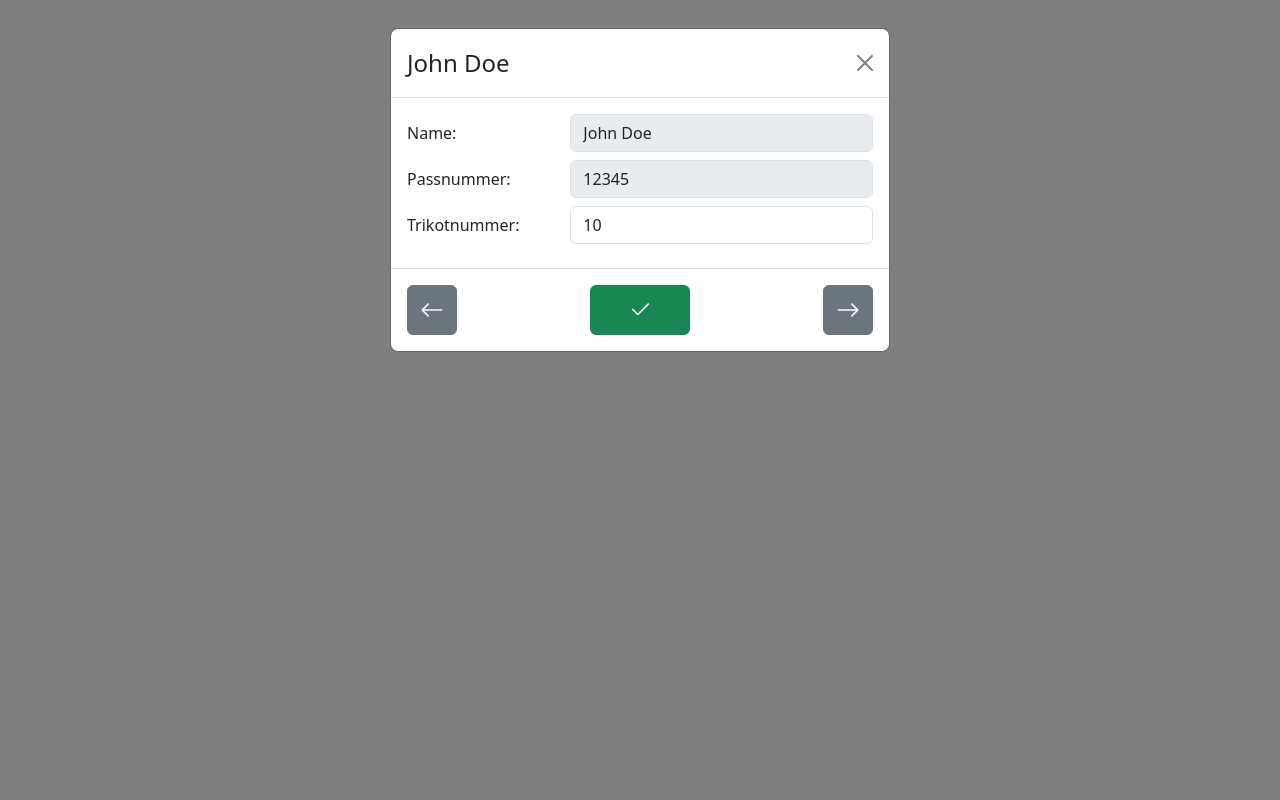
Scenario: PlayerModal › shows error message for invalid jersey number (non-numeric)
Step 1. Replace the text in the field with placeholder "Trikotnummer" next to "Trikotnummer:" with "abc" → (722, 225), box [570, 206, 873, 244]
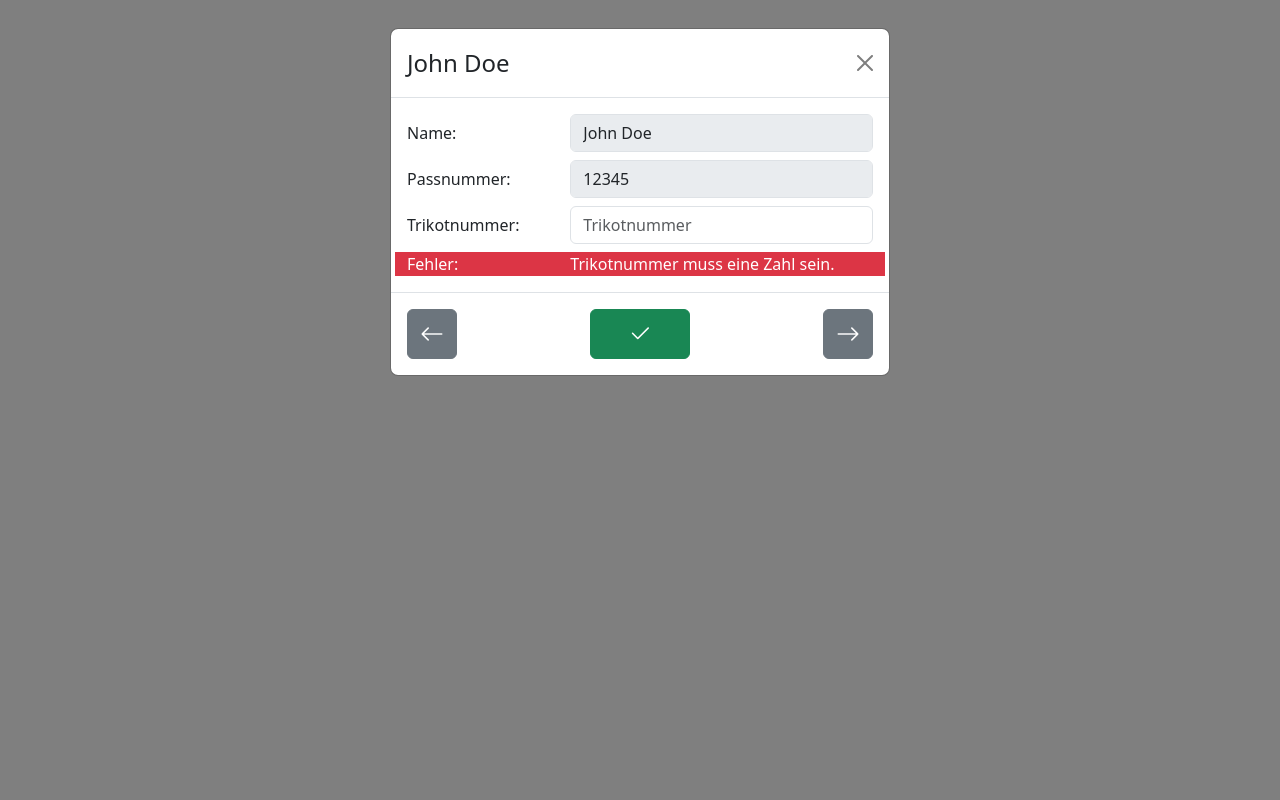
expect the text "Trikotnummer muss eine Zahl sein." is shown: met, box [570, 252, 873, 276]
